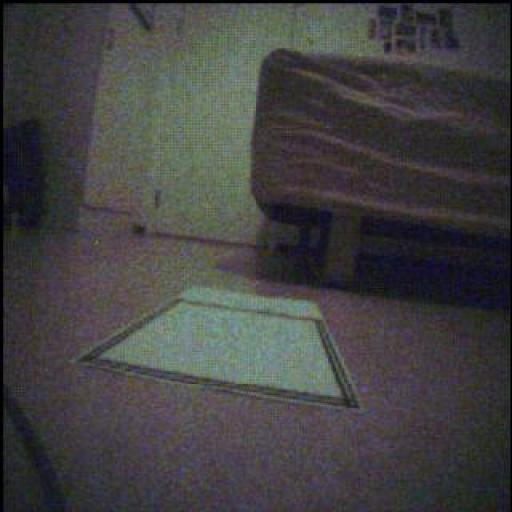pad: (78, 289, 359, 409)
